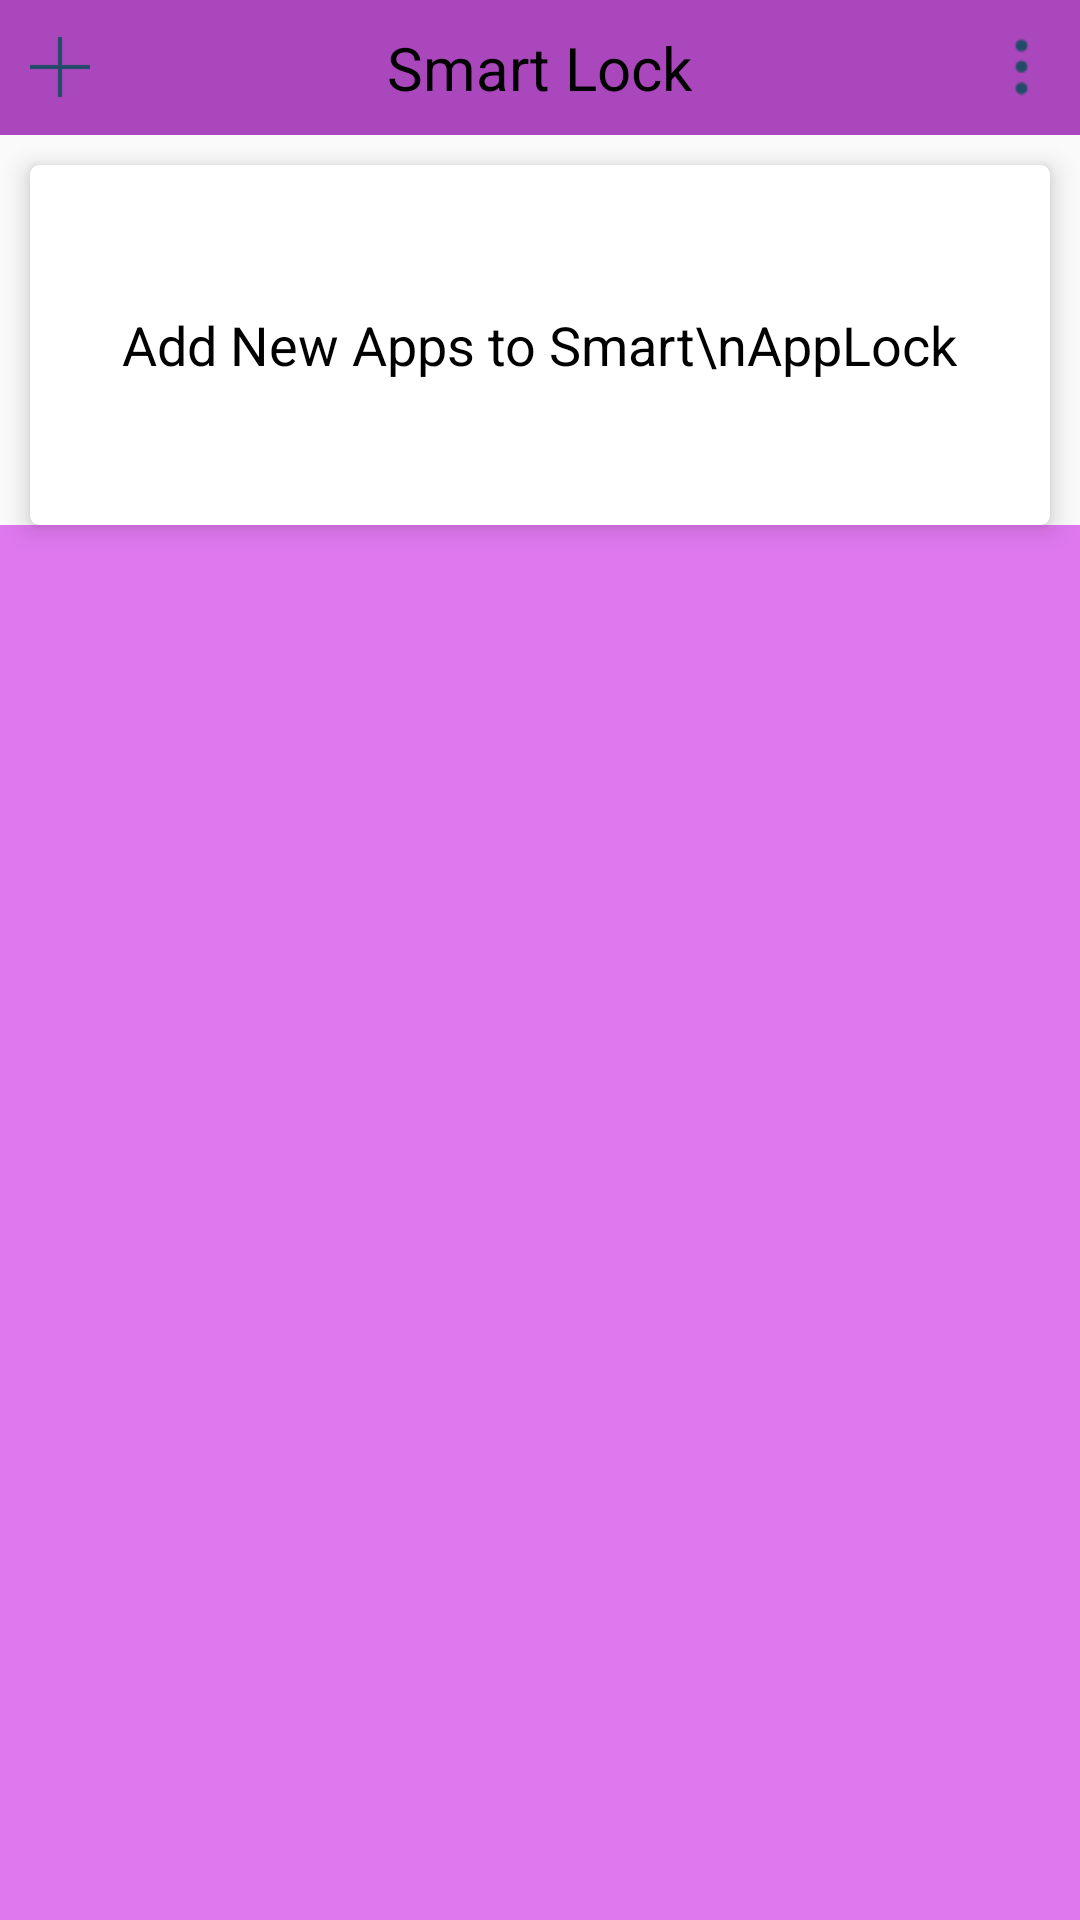

Where icons sit on this 1080px x 1920px app screen, as (x1, y1, x2, y2):
more: (1015, 39, 1028, 95)
plus: (30, 37, 90, 97)
